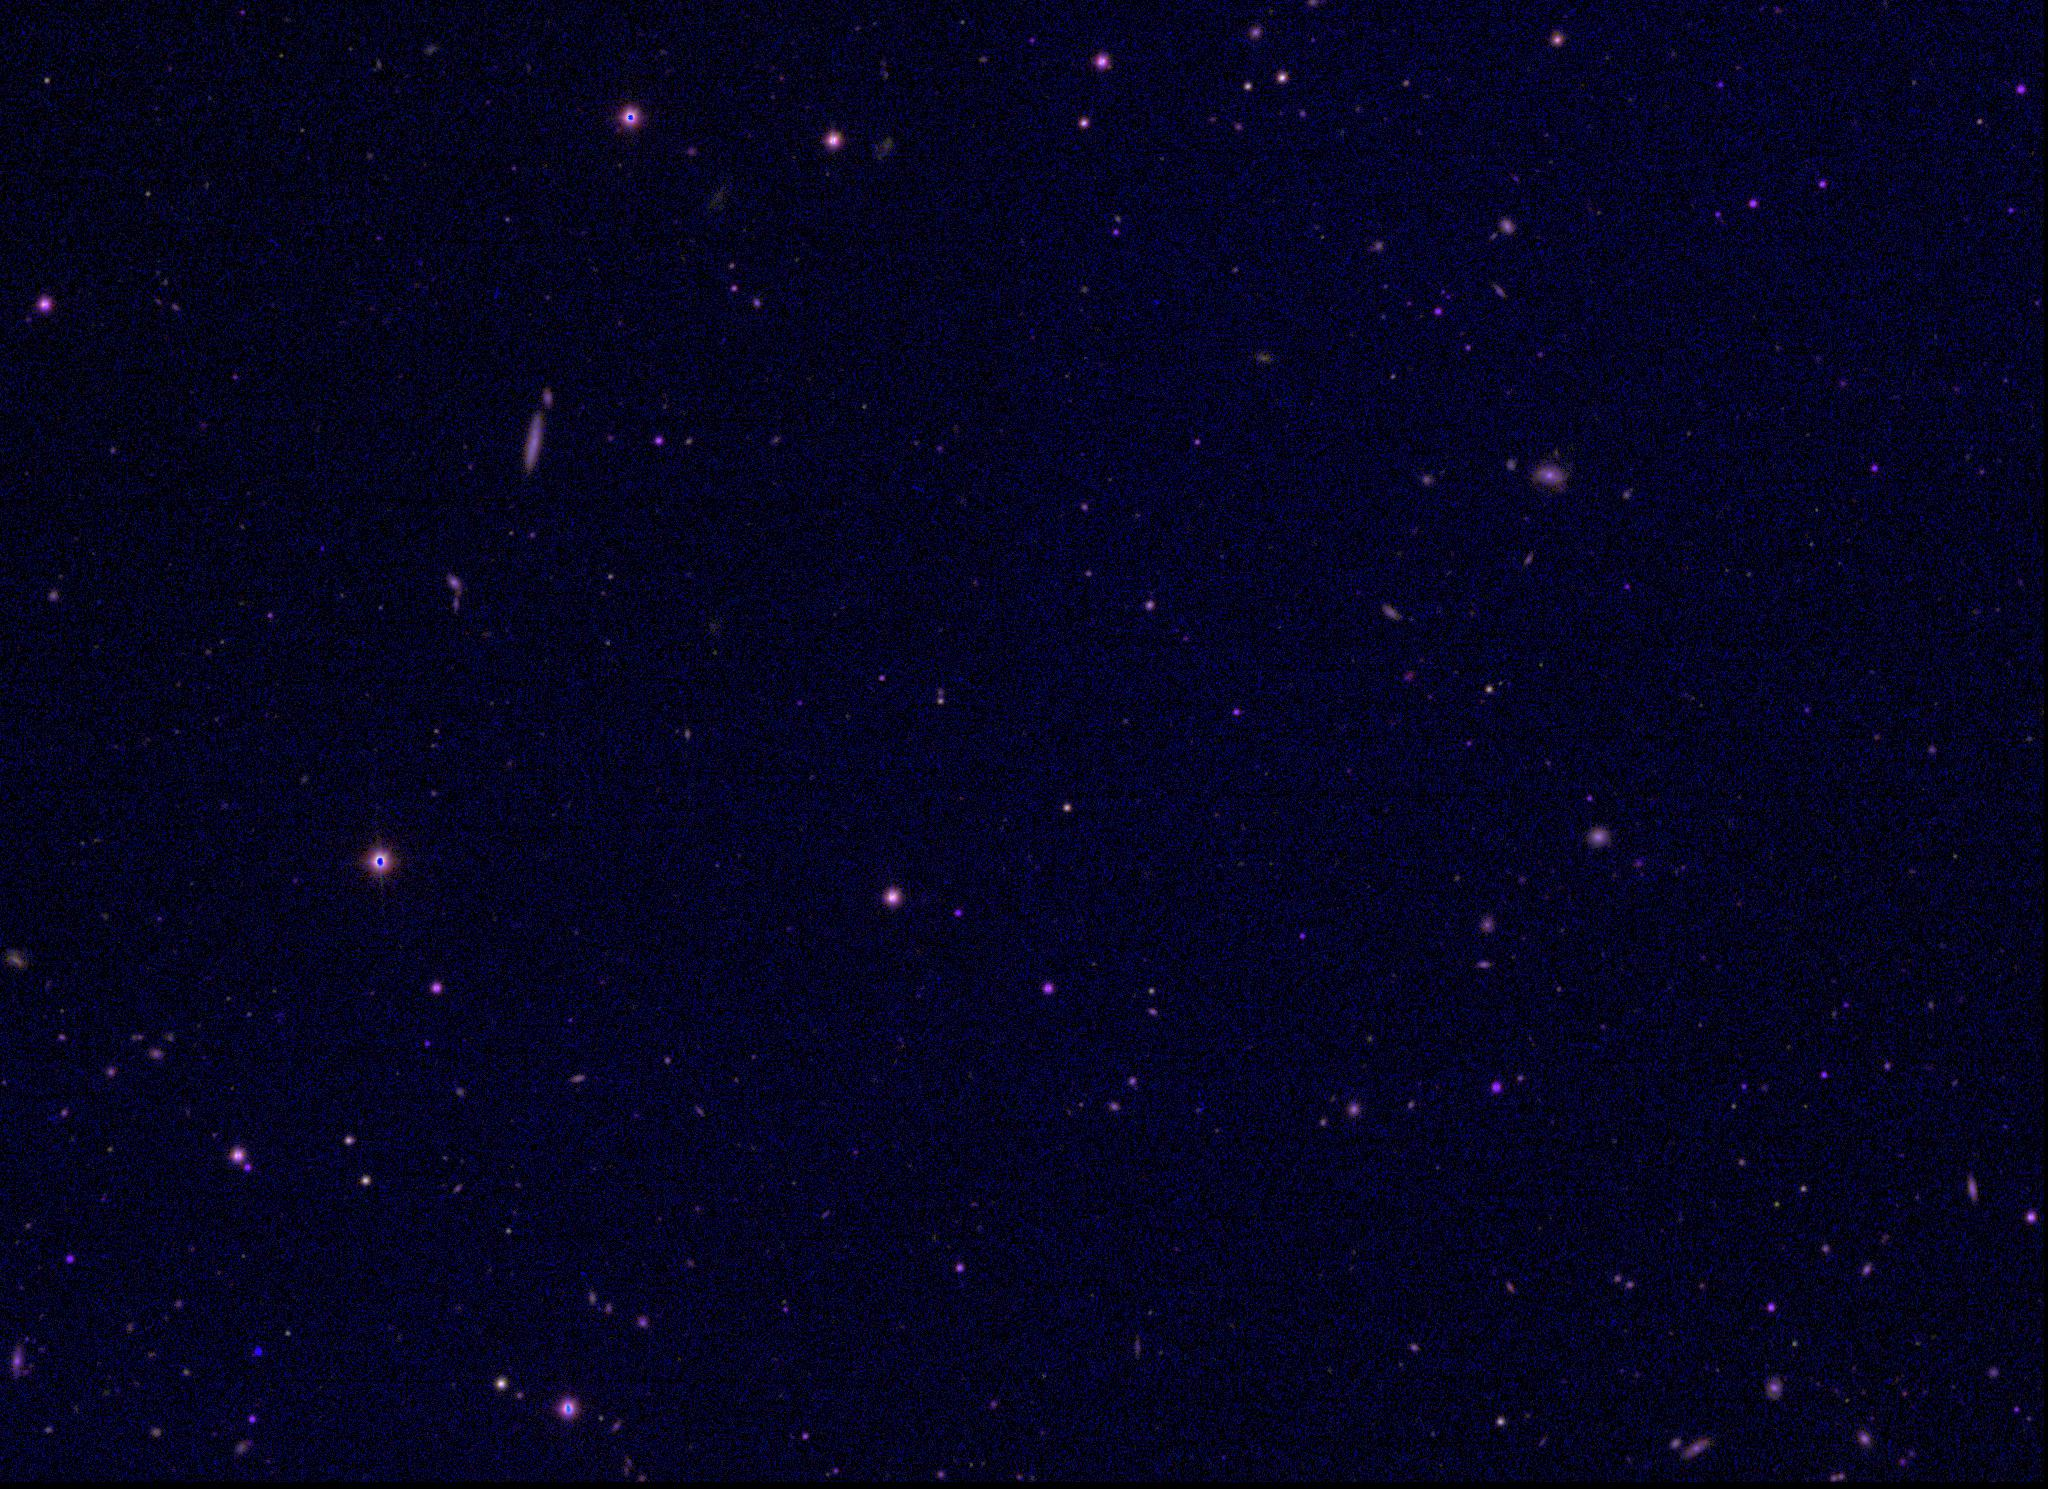L: (251, 1344, 266, 1359)
